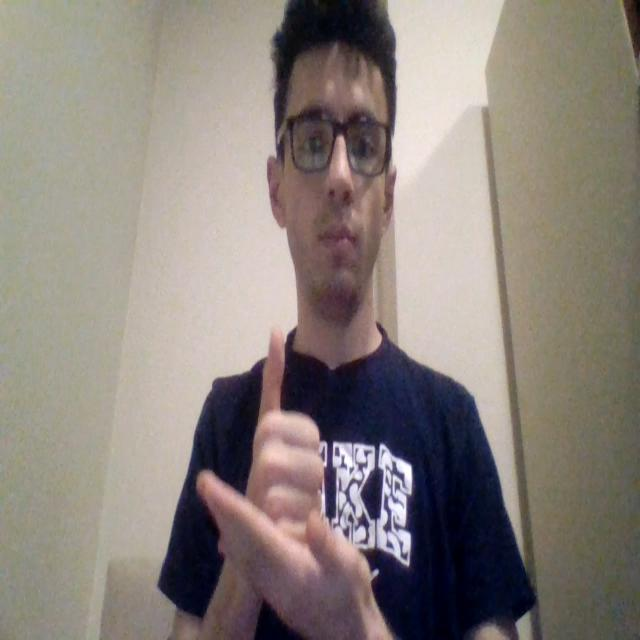help: (199, 323, 375, 640)
